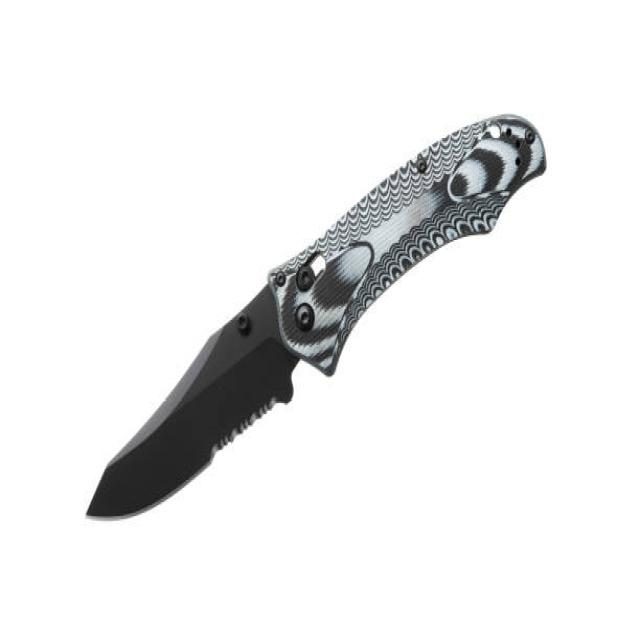knife: (83, 112, 553, 540)
